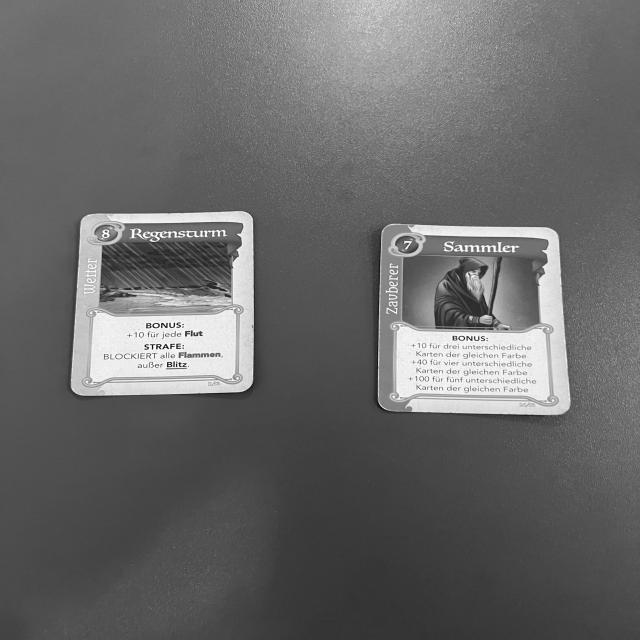Collector: (372, 220, 572, 419)
Rainstorm: (65, 209, 251, 399)
